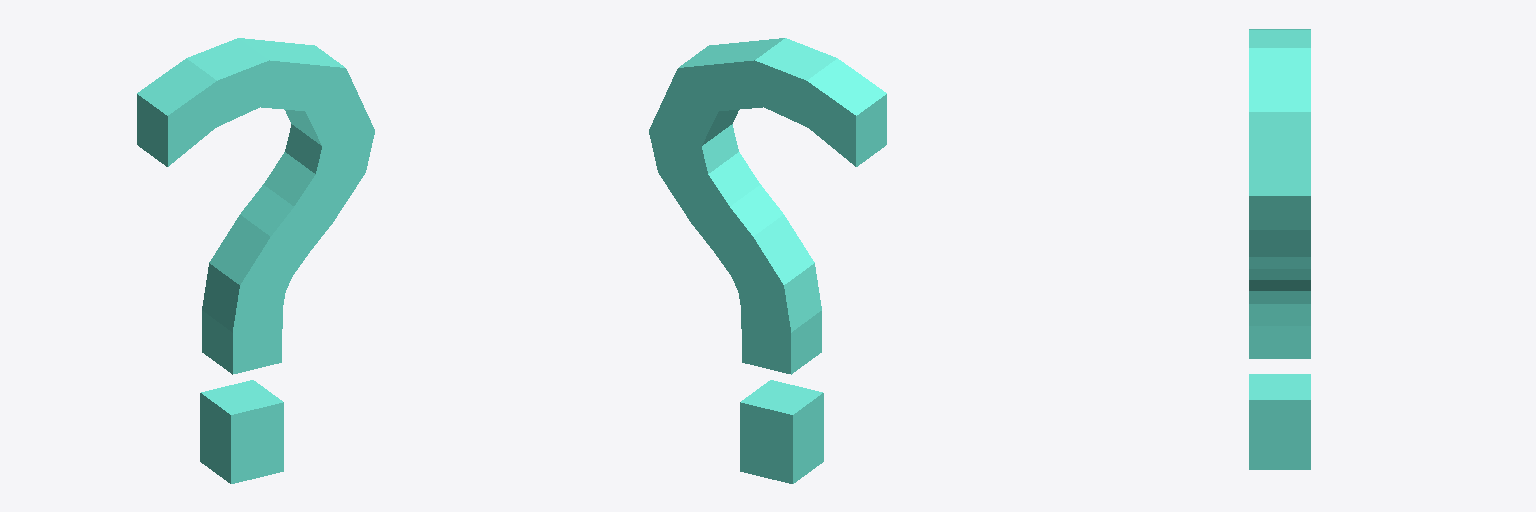
The model's file is question.obj.
The picture shows the model from 3 angles: view 1: azimuth 30°, elevation 25°; view 2: azimuth 150°, elevation 25°; view 3: azimuth 270°, elevation 25°; orthographic projection.
Parts seen in each view (by area): view 1: text1; view 2: text1; view 3: text1.
Boxes of the visible parts, box(x1,y1,x2,y2) form: text1: box(137, 38, 374, 483); text1: box(649, 38, 886, 483); text1: box(1249, 29, 1310, 469).
Bounding box in the file's own units: 0.7783 × 1.48 × 0.2.